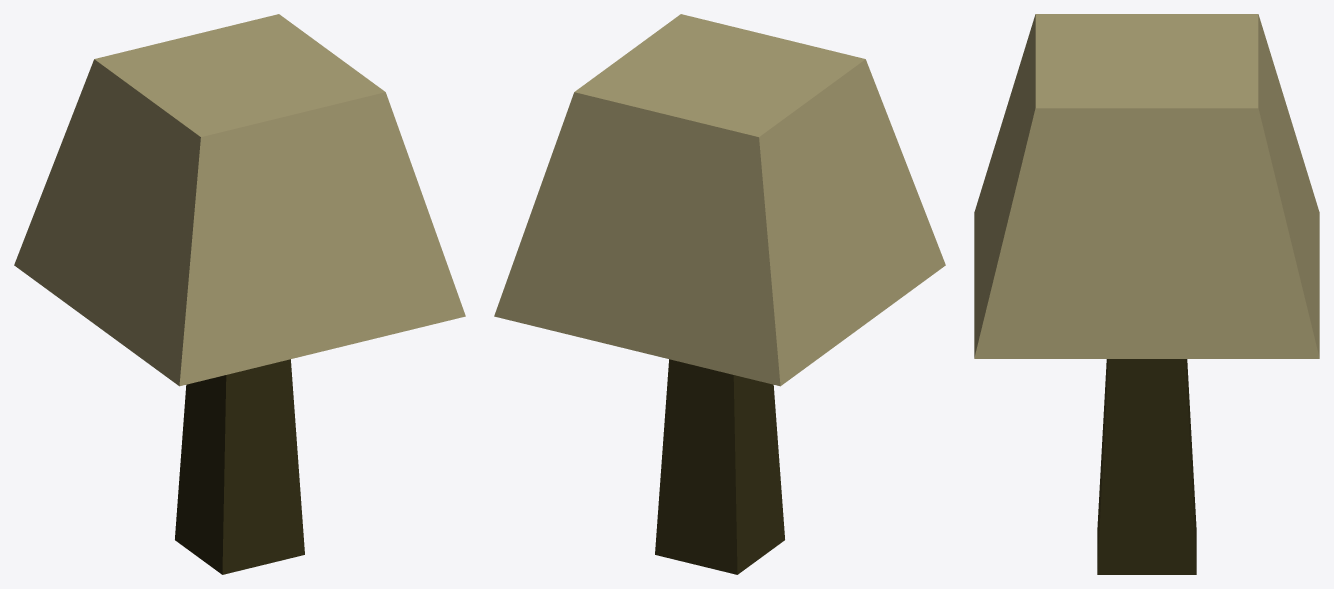
File: lamp.fbx
3 renders of one model, left to right at view 1: azimuth 30°, elevation 25°; view 2: azimuth 150°, elevation 25°; view 3: azimuth 270°, elevation 25°, orthographic. The views are drawn at different scales.
Visible parts, largest first — view 1: pCube24, pCube23; view 2: pCube24, pCube23; view 3: pCube24, pCube23.
Boxes of the visible parts, x1,y1,x2,y2 form: pCube24: (14,14,465,386); pCube23: (175,359,304,574); pCube24: (494,14,945,386); pCube23: (655,359,784,574); pCube24: (974,14,1319,358); pCube23: (1097,359,1196,574).
Bounding box in the file's own units: 23.27 × 36.62 × 23.27.
